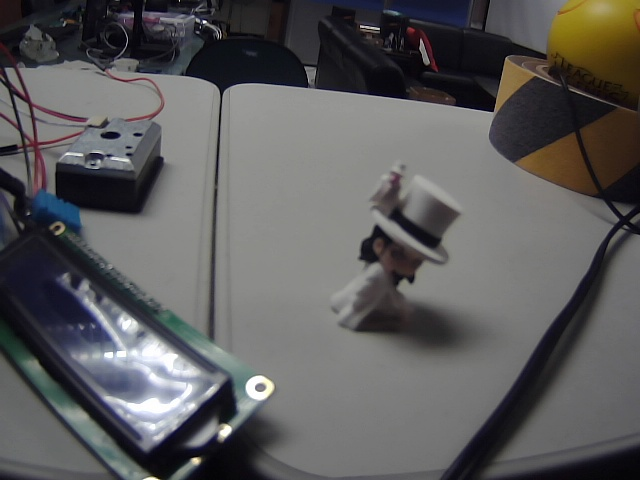lucci: (317, 154, 464, 341)
